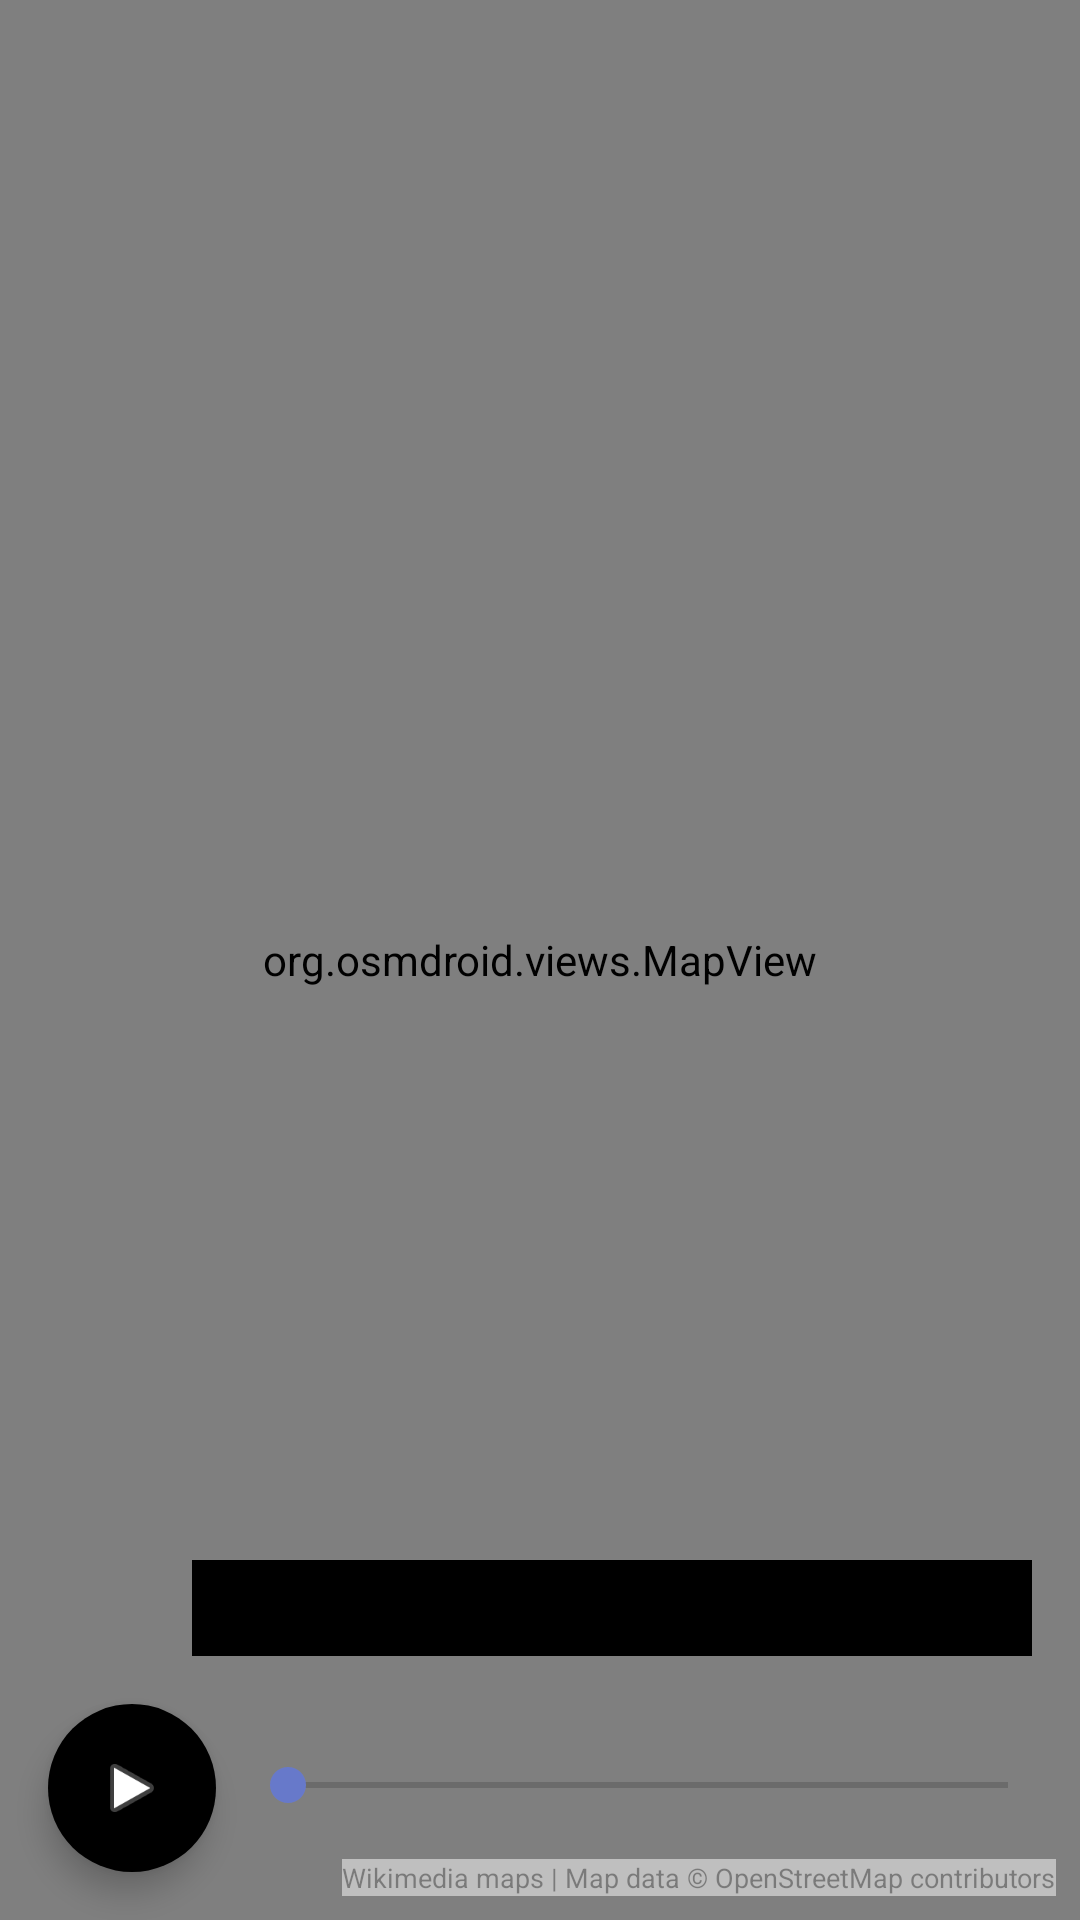

Screen size 1080*1920. Icon name, then its box in pixels as (x1, y1, x2, y2):
play: (48, 1704, 216, 1872)
